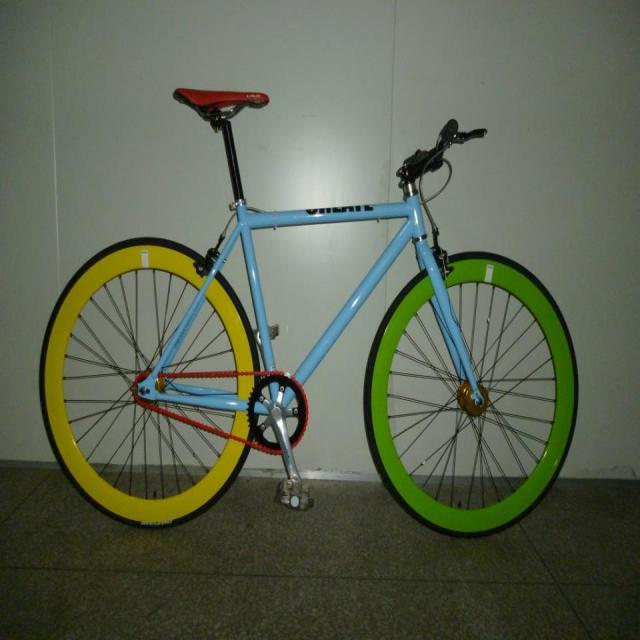Bicycle: (35, 63, 594, 561)
